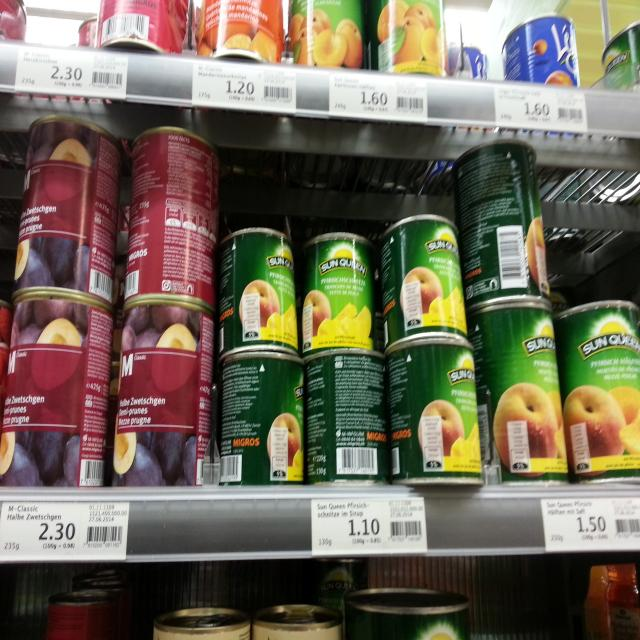Canned: (10, 114, 131, 312), (0, 286, 116, 489), (102, 302, 219, 490), (461, 291, 570, 481), (442, 138, 556, 308), (122, 125, 222, 310), (382, 334, 491, 492), (557, 296, 640, 481), (216, 347, 313, 495), (301, 348, 392, 489), (375, 207, 465, 339), (297, 230, 380, 358), (214, 226, 301, 346)
